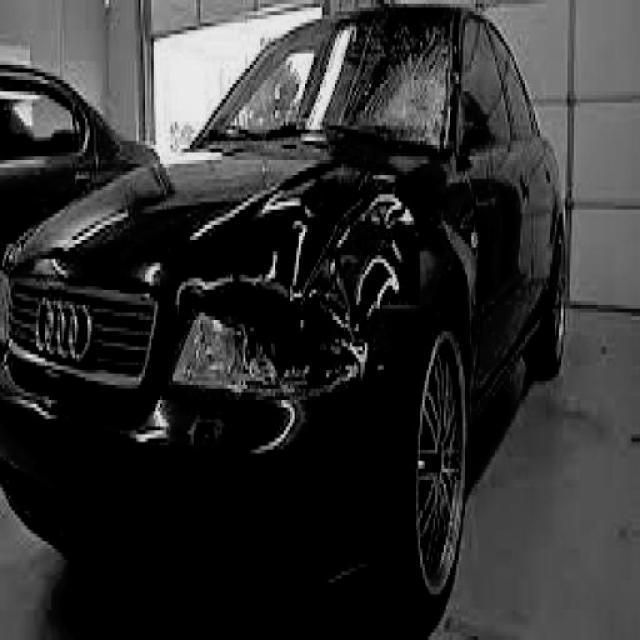car damage: (210, 183, 411, 423), (346, 38, 453, 152)
